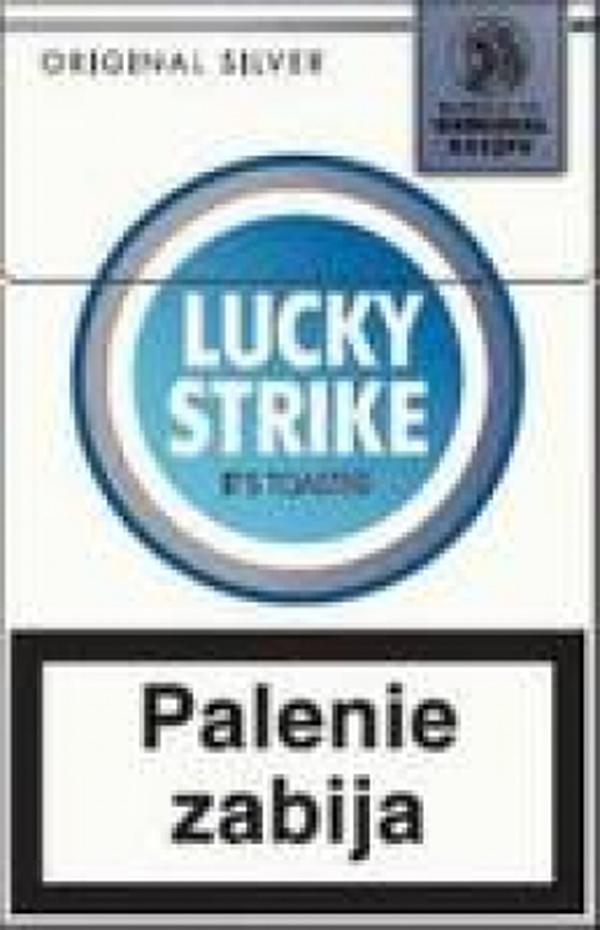lucky_strike_blue: (6, 2, 600, 925)
